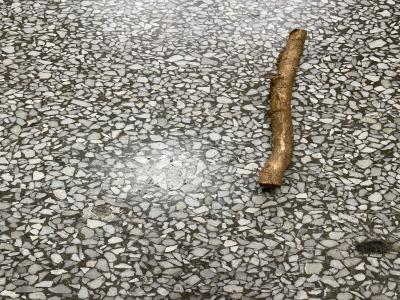Root: (258, 29, 307, 188)
